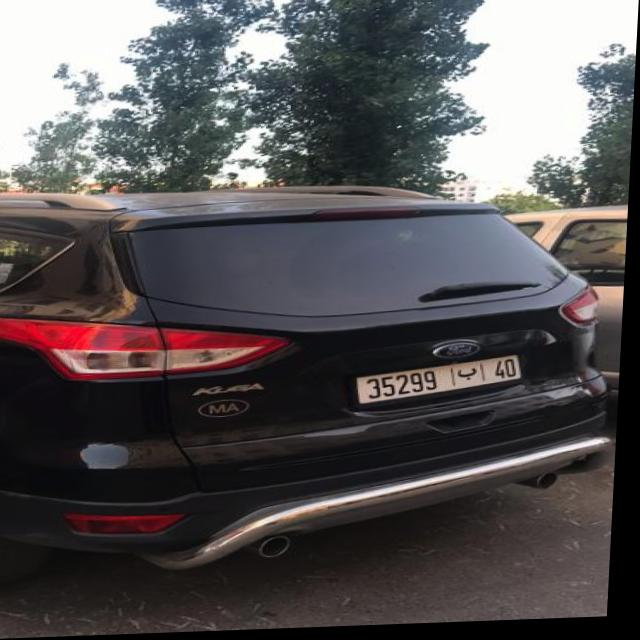License-Plate: (363, 360, 523, 406)
